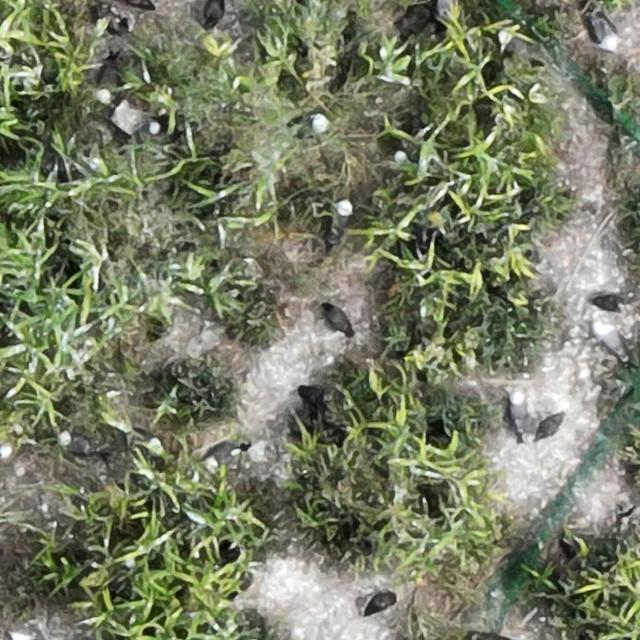umineko: (495, 27, 534, 63), (594, 323, 626, 364), (56, 430, 102, 454), (97, 59, 118, 105), (332, 201, 354, 244), (136, 434, 167, 457), (206, 444, 239, 465), (390, 132, 408, 170), (594, 18, 616, 49), (149, 116, 178, 137), (510, 392, 526, 430), (298, 115, 330, 132), (436, 0, 451, 16)
